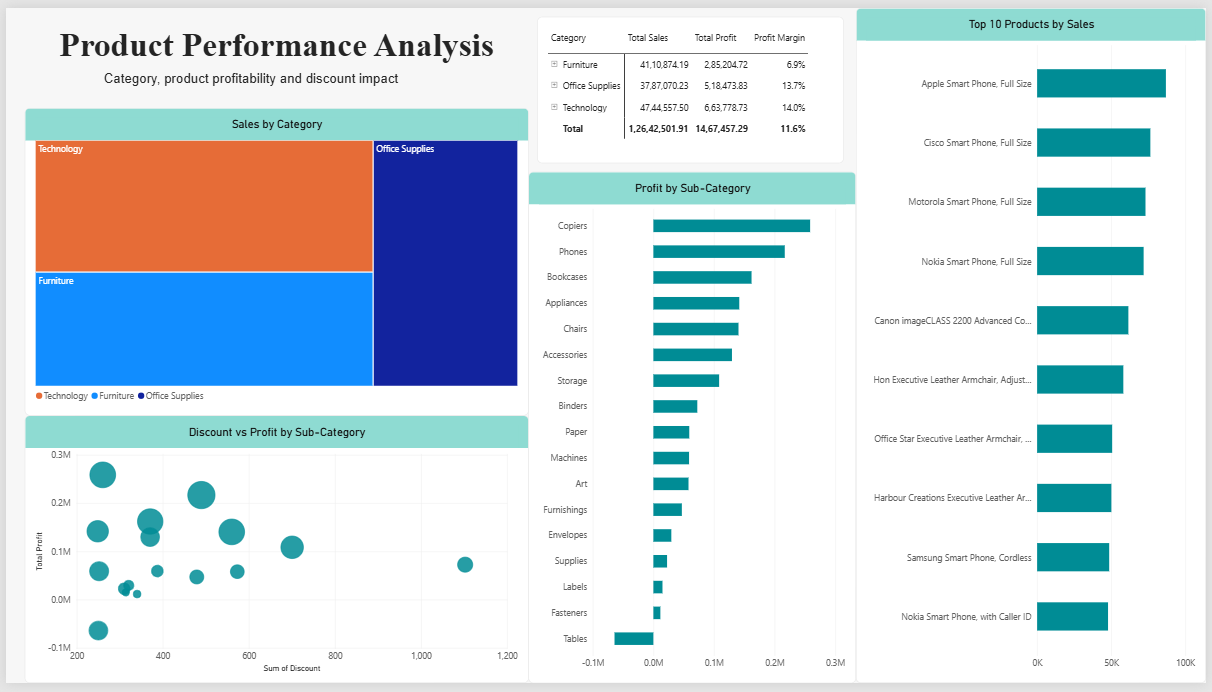

The page's visual inventory and layout, read from the dashboard file:
{"tool":"powerbi","page":{"name":"Product Analysis","canvas":[1920,1080],"ordinal":2},"visuals":[{"type":"treemap","title":"Sales by Category","fields":{"Group":["SalesData.Category"],"Values":["Sum(SalesData.Sales)"]},"box":[30,160,806,492],"z":0},{"type":"clusteredBarChart","title":"Profit by Sub-Category","fields":{"Category":["SalesData.Sub-Category"],"Y":["SalesData.Total Profit"]},"box":[836,262,524,818],"z":1},{"type":"scatterChart","title":"Discount vs Profit by Sub-Category","fields":{"X":["Sum(SalesData.Discount)"],"Y":["SalesData.Total Profit"],"Category":["SalesData.Sub-Category"],"Size":["SalesData.Total Sales"]},"box":[30,652,806,428],"z":2},{"type":"clusteredBarChart","title":"Top 10 Products by Sales","fields":{"Y":["SalesData.Total Sales"],"Category":["SalesData.Product Name"]},"box":[1360,0,560,1080],"z":3},{"type":"pivotTable","fields":{"Rows":["SalesData.Category","SalesData.Sub-Category"],"Values":["SalesData.Total Sales","SalesData.Total Profit","SalesData.Profit Margin"]},"box":[850,14,490,234],"z":4},{"type":"textbox","box":[30,28,806,76],"z":5},{"type":"textbox","box":[100,100,584,60],"z":6}]}

Visuals, with their boxes in screenshot pixels (x1, y1, x2, y2), scaled from the page's 1920x1080 canvas onto the 1212x692 screenshot:
"Sales by Category" treemap: <bbox>19, 103, 528, 418</bbox>
"Profit by Sub-Category" clusteredBarChart: <bbox>528, 168, 858, 691</bbox>
"Discount vs Profit by Sub-Category" scatterChart: <bbox>19, 418, 528, 691</bbox>
"Top 10 Products by Sales" clusteredBarChart: <bbox>858, 0, 1211, 691</bbox>
pivotTable - SalesData.Category x SalesData.Sub-Category: <bbox>537, 9, 846, 159</bbox>
textbox: <bbox>19, 18, 528, 67</bbox>
textbox: <bbox>63, 64, 432, 103</bbox>
